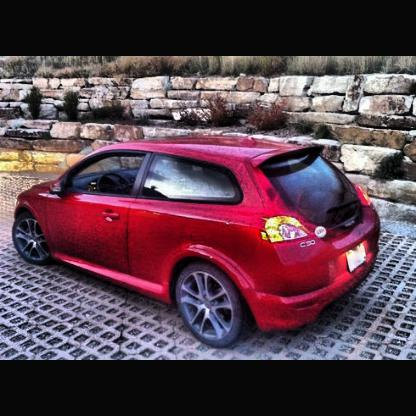Volvo C30 Hatchback 2012: (11, 131, 385, 355)
